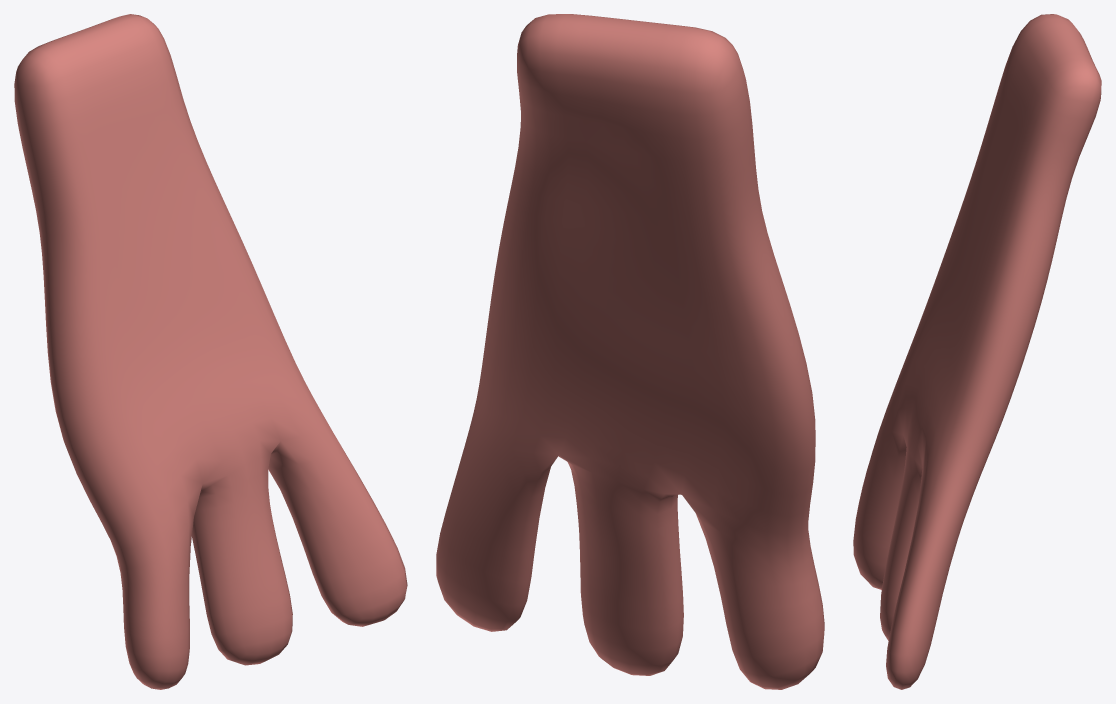
The picture shows the model from 3 angles, left to right: view 1: azimuth 30°, elevation 25°; view 2: azimuth 150°, elevation 25°; view 3: azimuth 270°, elevation 25°; orthographic projection. The views are drawn at different scales.
Visible parts, largest first — view 1: ZA_a7a340943a8e0c5f; view 2: ZA_a7a340943a8e0c5f; view 3: ZA_a7a340943a8e0c5f.
Boxes of the visible parts, x1,y1,x2,y2 form: ZA_a7a340943a8e0c5f: (14,14,407,689); ZA_a7a340943a8e0c5f: (436,14,824,689); ZA_a7a340943a8e0c5f: (853,14,1101,689).
Bounding box in the file's own units: 0.0273 × 0.0485 × 0.0193.
